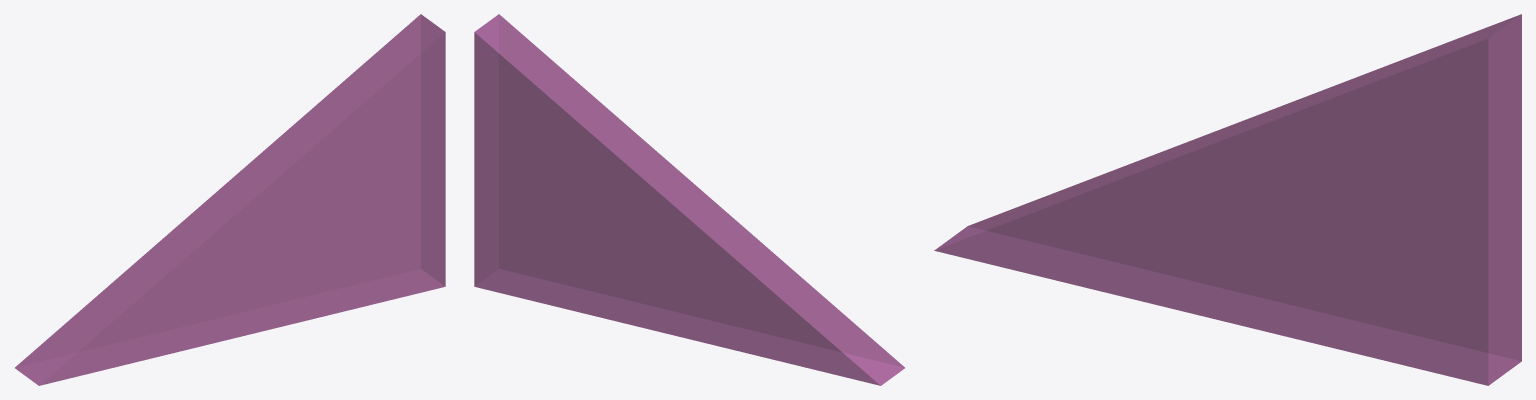
Rendered from SM_Bld_Base_Stairwell_Wall_01_Collision.fbx.
The picture shows the model from 3 angles, left to right: view 1: azimuth 30°, elevation 25°; view 2: azimuth 150°, elevation 25°; view 3: azimuth 330°, elevation 25°; orthographic projection. The views are drawn at different scales.
Visible parts, largest first — view 1: SM_Bld_Base_Stairwell_Wall_01_Collision; view 2: SM_Bld_Base_Stairwell_Wall_01_Collision; view 3: SM_Bld_Base_Stairwell_Wall_01_Collision.
Part boxes in pixels (left/top/right/bottom): SM_Bld_Base_Stairwell_Wall_01_Collision: left=15, top=14, right=445, bottom=385; SM_Bld_Base_Stairwell_Wall_01_Collision: left=474, top=14, right=904, bottom=385; SM_Bld_Base_Stairwell_Wall_01_Collision: left=934, top=14, right=1521, bottom=385.
Bounding box in the file's own units: 260 × 156 × 27.32.
